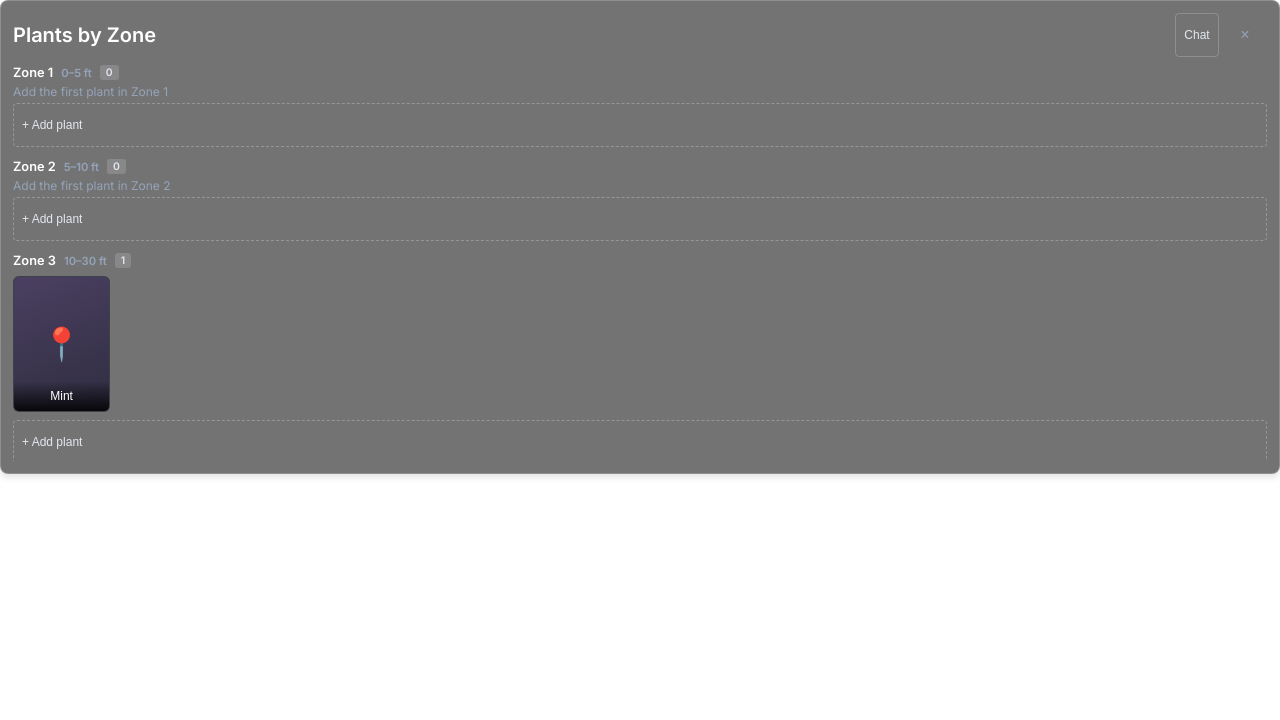
it: ZonePlantLists › opens the lightbox when a card is clicked and closes on ESC
Expected: the text "Mint" is shown, [50, 389, 73, 403]
Click the button "📍 Mint": (62, 344) [13, 276, 110, 412]
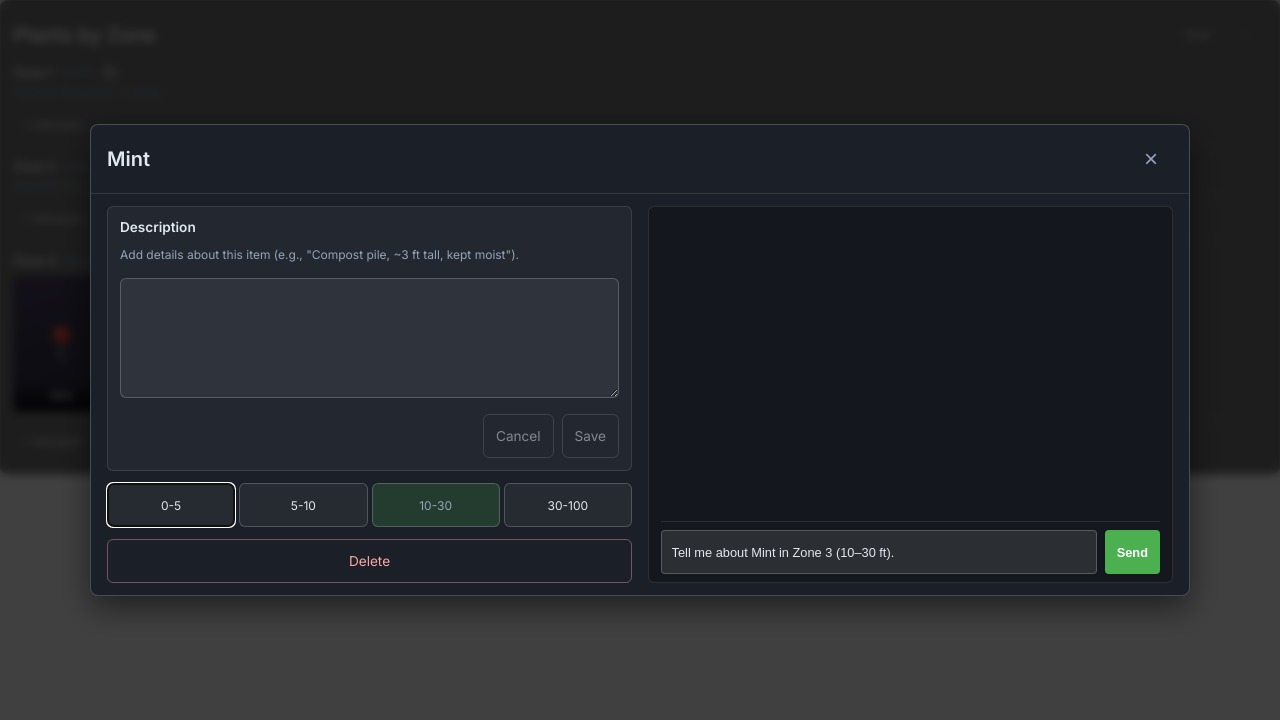
Result: the dialog is shown at [90, 124, 1190, 596]
Press Escape
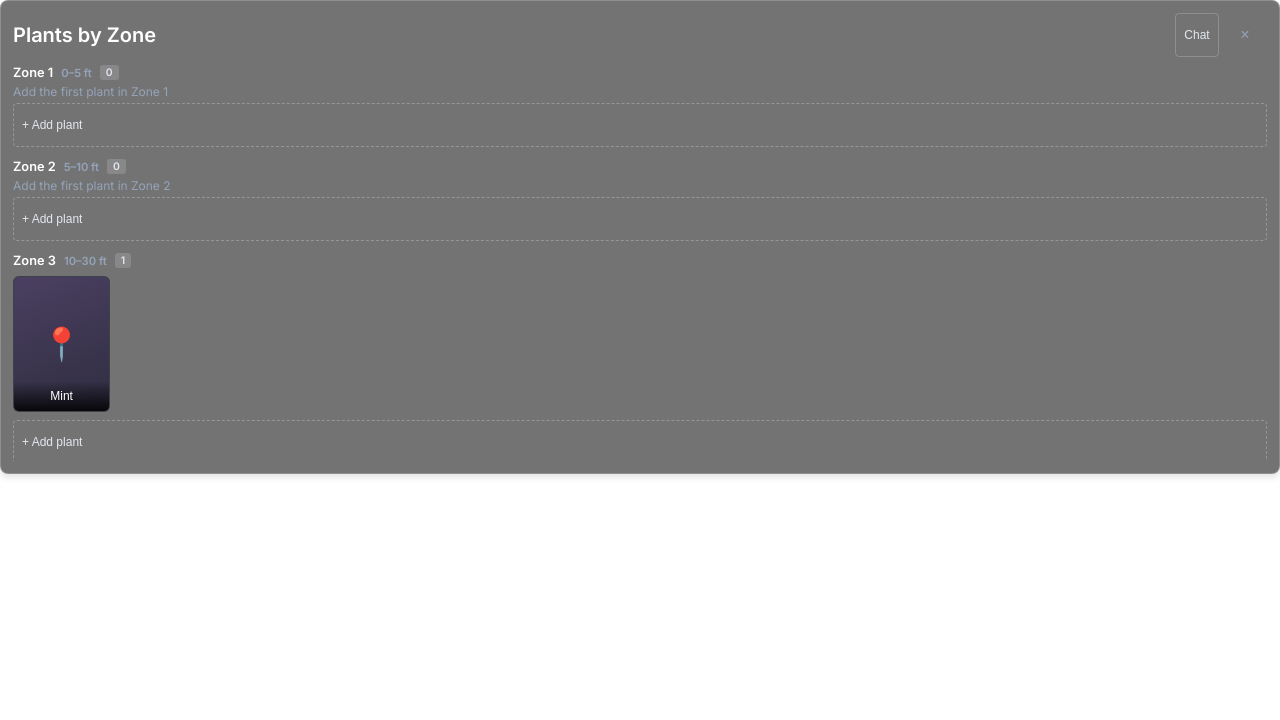
Result: the dialog is gone
